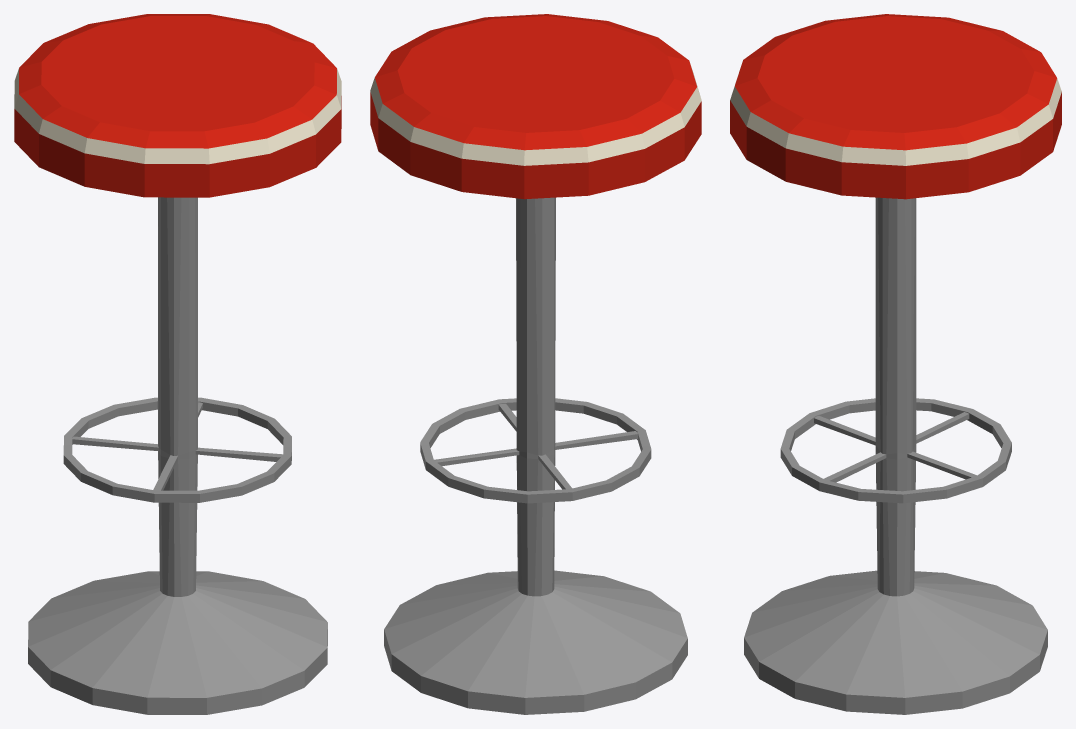
Rendered from Kitchen Bar Chair.glb.
The picture shows the model from 3 angles, left to right: view 1: azimuth 30°, elevation 25°; view 2: azimuth 150°, elevation 25°; view 3: azimuth 270°, elevation 25°; orthographic projection.
Visible parts, largest first — view 1: Bar Chair; view 2: Bar Chair; view 3: Bar Chair.
Part boxes in pixels (x1=…): Bar Chair: x1=14, y1=14, x2=341, y2=714; Bar Chair: x1=370, y1=14, x2=701, y2=714; Bar Chair: x1=730, y1=14, x2=1061, y2=714.
Bounding box in the file's own units: 0.4519 × 0.8661 × 0.4519.
Materials: 1 (1 with a texture image).
